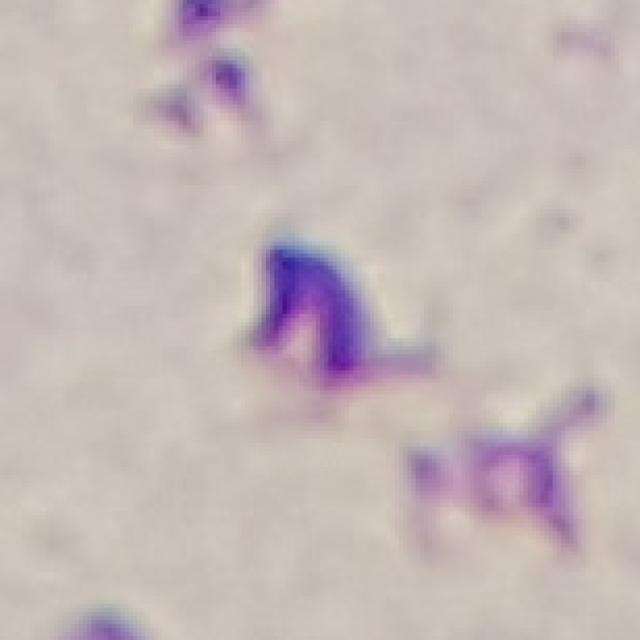non-sperm: (247, 231, 427, 394)
